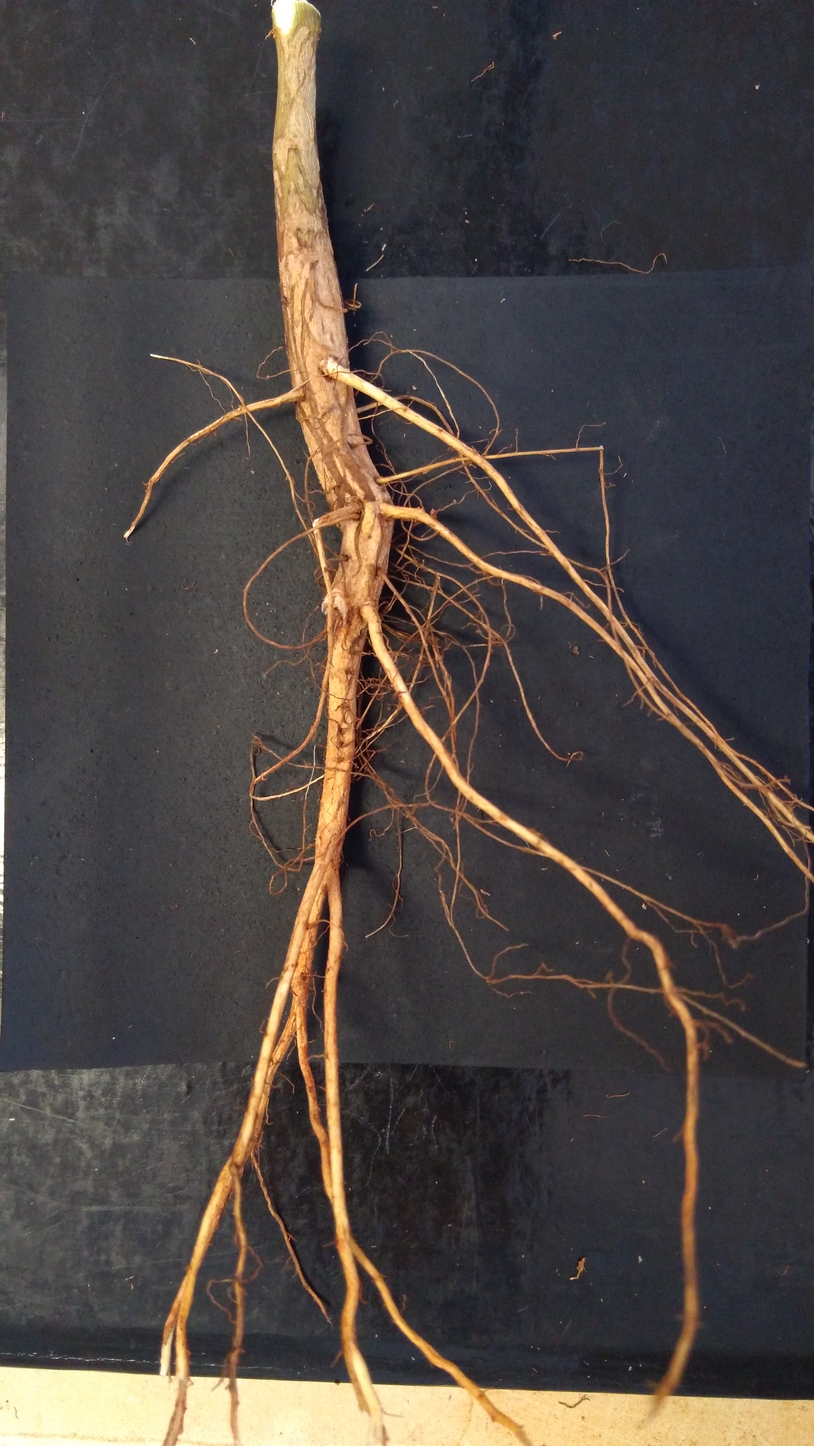nodule: (321, 587, 348, 625), (572, 646, 579, 654), (429, 509, 436, 516), (261, 775, 267, 781), (412, 385, 417, 391), (453, 499, 457, 504), (266, 375, 270, 379)
